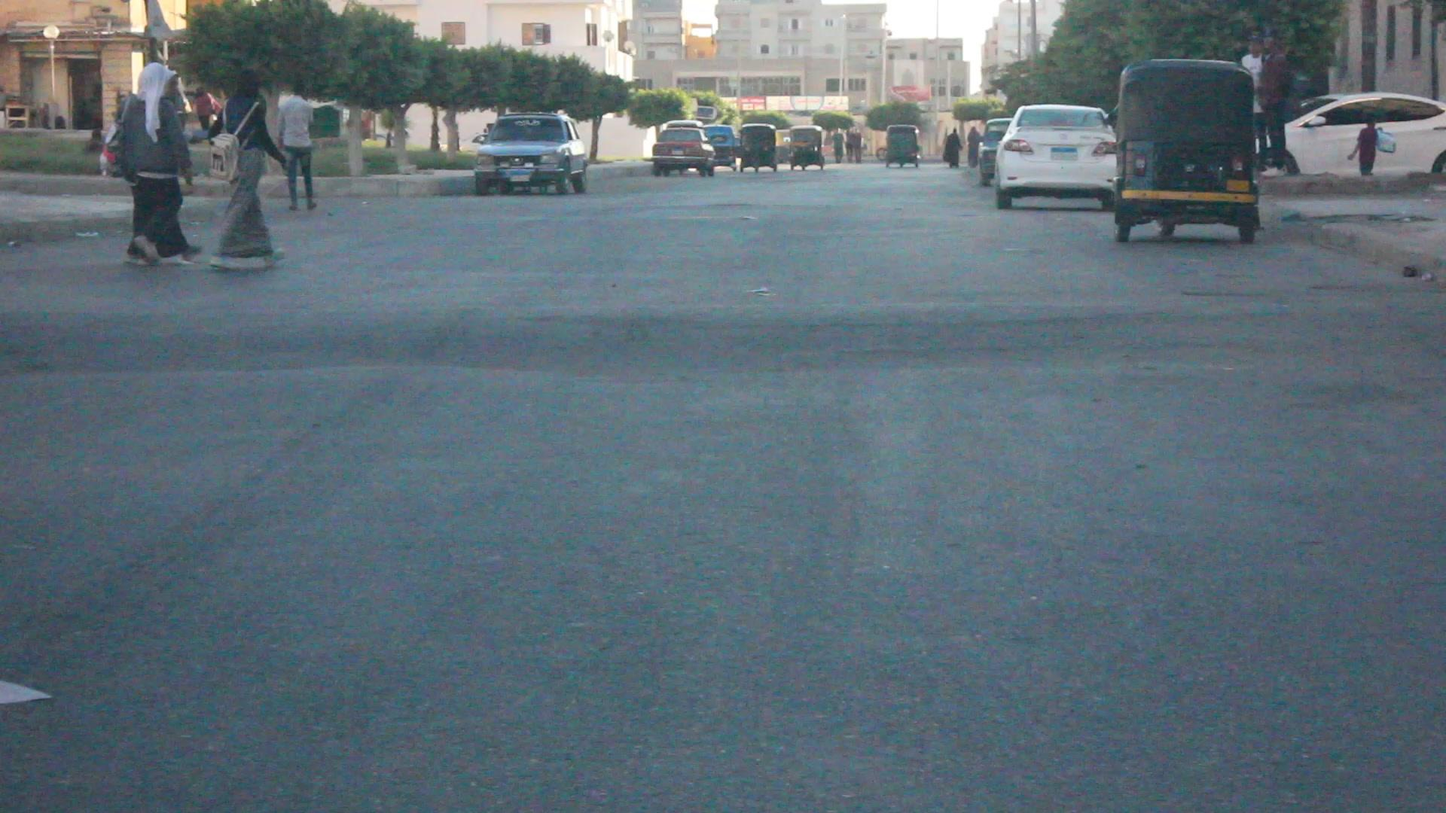Bump: (8, 284, 1446, 380)
